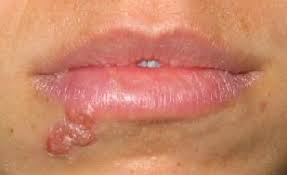herpes: (43, 83, 242, 171)
